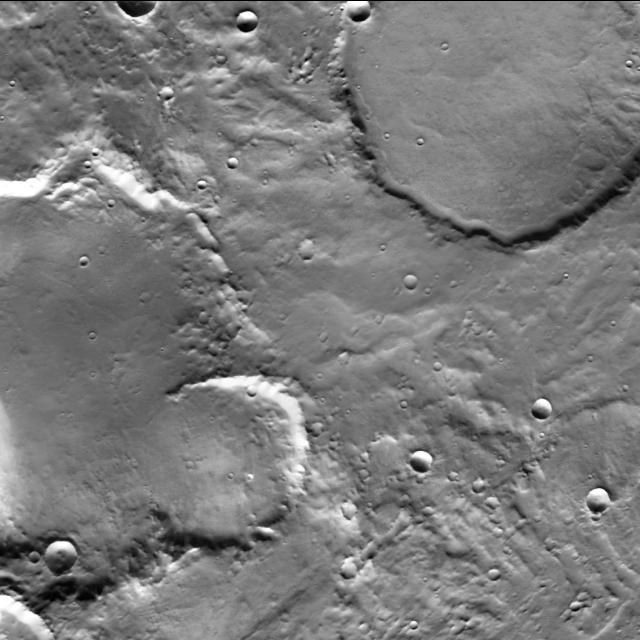crater: (0, 153, 260, 600), (338, 0, 640, 238), (72, 419, 364, 640), (134, 367, 310, 542), (44, 533, 78, 567), (587, 481, 612, 507), (387, 508, 412, 533), (412, 442, 436, 466), (619, 560, 640, 582), (238, 4, 258, 24), (534, 392, 554, 412), (363, 532, 383, 552), (347, 0, 371, 15), (298, 234, 316, 253), (348, 548, 366, 566), (342, 554, 359, 572), (344, 496, 359, 512), (160, 78, 174, 93), (152, 562, 167, 576), (405, 268, 419, 282), (458, 600, 472, 614), (302, 55, 316, 69), (198, 306, 212, 318), (474, 472, 487, 484), (339, 347, 352, 359), (228, 150, 240, 162), (29, 544, 41, 556), (489, 561, 501, 573), (489, 489, 501, 501), (312, 416, 324, 428), (293, 62, 305, 74), (312, 47, 324, 59), (506, 520, 517, 532), (232, 556, 243, 568), (398, 610, 408, 622), (248, 378, 259, 388), (546, 534, 557, 544), (454, 618, 464, 629), (80, 250, 90, 260), (572, 594, 582, 604), (361, 616, 371, 626), (361, 444, 371, 454), (450, 465, 460, 475), (564, 604, 574, 614), (580, 586, 590, 596), (594, 504, 604, 514), (494, 522, 504, 532), (526, 457, 536, 467), (330, 434, 340, 444), (360, 464, 370, 474), (399, 464, 409, 474), (400, 490, 410, 500), (424, 499, 434, 509), (418, 467, 428, 477), (281, 606, 291, 616), (382, 629, 392, 639), (388, 622, 398, 632), (394, 616, 404, 626), (248, 509, 258, 519), (140, 286, 150, 296), (302, 48, 312, 58), (434, 354, 444, 363), (197, 174, 206, 183), (464, 313, 473, 322), (321, 326, 330, 335), (328, 409, 337, 418), (268, 632, 276, 640), (220, 47, 228, 55), (626, 52, 634, 60), (450, 43, 458, 51), (580, 553, 588, 561), (512, 546, 520, 554), (540, 574, 548, 582), (522, 598, 530, 606), (467, 304, 475, 312), (473, 316, 481, 324), (376, 310, 384, 318), (338, 435, 346, 443), (524, 523, 532, 531), (188, 454, 196, 462), (150, 498, 158, 506), (98, 240, 106, 248), (253, 132, 261, 140), (412, 613, 419, 621), (101, 148, 108, 156), (93, 160, 100, 168), (402, 394, 409, 402), (566, 511, 574, 518), (451, 274, 458, 282), (476, 321, 484, 328), (447, 402, 455, 409), (205, 288, 212, 296), (98, 7, 106, 14), (192, 454, 199, 461), (426, 138, 432, 146), (542, 516, 550, 522), (630, 386, 638, 392), (96, 332, 102, 340), (336, 168, 342, 175), (497, 332, 504, 338), (222, 197, 228, 204), (17, 80, 23, 86)
